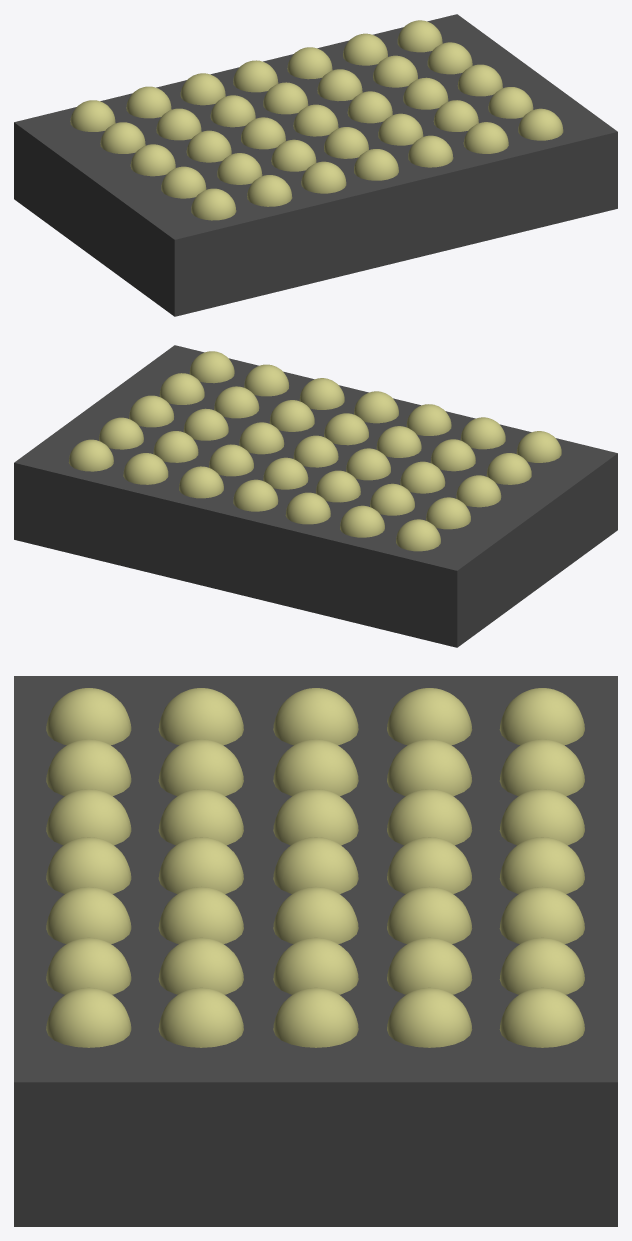
Rendered from takoyakiki.fbx.
The picture shows the model from 3 angles, top to bottom: view 1: azimuth 30°, elevation 25°; view 2: azimuth 150°, elevation 25°; view 3: azimuth 270°, elevation 25°; orthographic projection. The views are drawn at different scales.
Visible parts, largest first — view 1: pCube34, pSphere22, pSphere6, pSphere35, pSphere12, pSphere5, pSphere30, pSphere17, pSphere13, pSphere24, pSphere27, pSphere1 (+24 smaller); view 2: pCube34, pSphere26, pSphere3, pSphere10, pSphere15, pSphere20, pSphere25, pSphere31, pSphere16, pSphere7, pSphere23, pSphere28 (+24 smaller); view 3: pCube34, pSphere23, pSphere21, pSphere22, pSphere24, pSphere25, pSphere32, pSphere35, pSphere31, pSphere33, pSphere34, pSphere11 (+24 smaller).
Part boxes in pixels (left/top/right/bottom): pCube34: left=14, top=14, right=617, bottom=316; pSphere22: left=518, top=108, right=563, bottom=140; pSphere6: left=301, top=161, right=346, bottom=193; pSphere35: left=191, top=188, right=236, bottom=220; pSphere12: left=408, top=135, right=453, bottom=167; pSphere5: left=354, top=149, right=398, bottom=180; pSphere30: left=247, top=175, right=292, bottom=206; pSphere17: left=463, top=122, right=508, bottom=153; pSphere13: left=347, top=91, right=392, bottom=123; pSphere24: left=427, top=42, right=472, bottom=74; pSphere27: left=156, top=108, right=201, bottom=140; pSphere1: left=293, top=104, right=338, bottom=136; pCube34: left=14, top=345, right=617, bottom=647; pSphere26: left=340, top=505, right=384, bottom=537; pSphere3: left=233, top=479, right=278, bottom=511; pSphere10: left=285, top=492, right=330, bottom=524; pSphere15: left=179, top=466, right=223, bottom=498; pSphere20: left=123, top=453, right=168, bottom=484; pSphere25: left=68, top=439, right=113, bottom=471; pSphere31: left=396, top=519, right=440, bottom=551; pSphere16: left=214, top=386, right=259, bottom=418; pSphere7: left=376, top=426, right=421, bottom=457; pSphere23: left=129, top=395, right=174, bottom=427; pSphere28: left=400, top=461, right=445, bottom=493; pCube34: left=14, top=676, right=617, bottom=1226; pSphere23: left=273, top=987, right=358, bottom=1047; pSphere21: left=158, top=987, right=243, bottom=1047; pSphere22: left=46, top=987, right=131, bottom=1047; pSphere24: left=387, top=987, right=472, bottom=1047; pSphere25: left=499, top=987, right=584, bottom=1047; pSphere32: left=387, top=688, right=472, bottom=745; pSphere35: left=46, top=688, right=131, bottom=745; pSphere31: left=499, top=688, right=584, bottom=745; pSphere33: left=273, top=688, right=358, bottom=745; pSphere34: left=158, top=688, right=243, bottom=745; pSphere11: left=158, top=886, right=243, bottom=943.
Size of the model in its own units: 1.31 by 0.275 by 0.8238.
